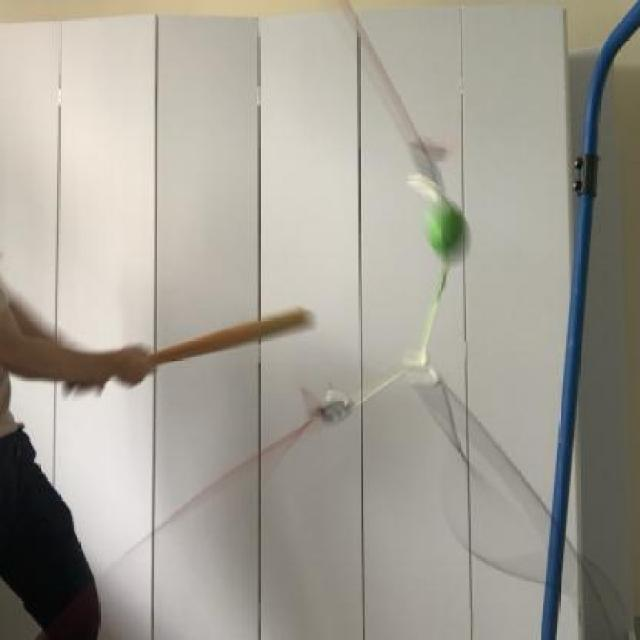baseball: (418, 199, 474, 266)
